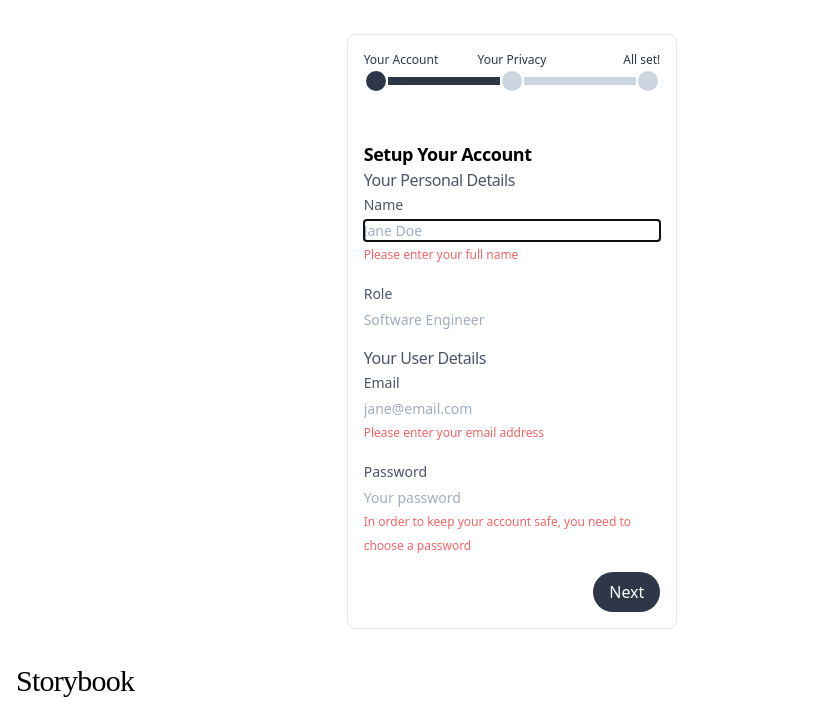
Test: Signup Workflow › When the user provides invalid information › When they attempt to choose a password › that is too short
The image size is (823, 702).
(page scrolled)
Type "DOB" into the password field.
click(513, 498); type("DOB")  # box [364,487,661,508]
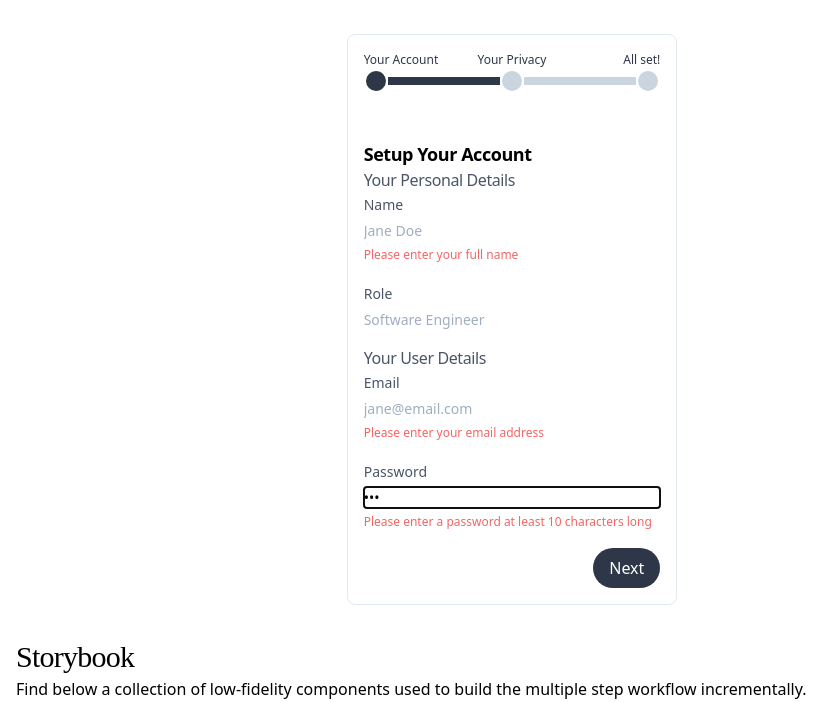
Expected: the text "Please enter a password at least 10 characters long" is shown, [364,513,652,530]
